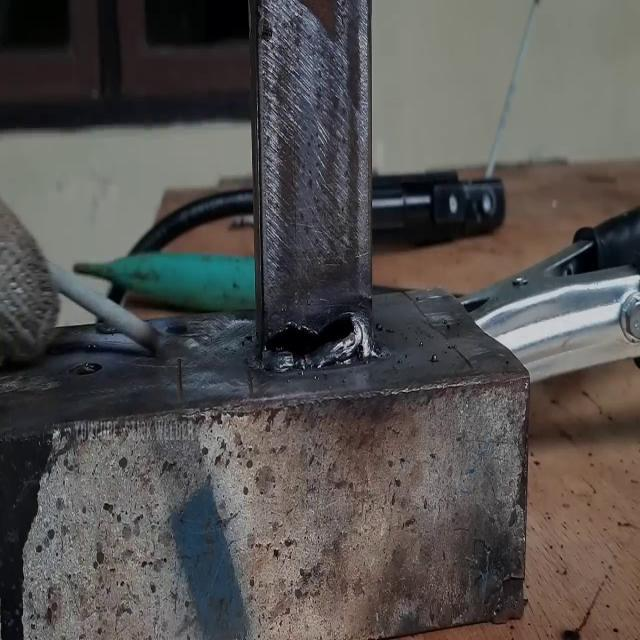Bad Welding: (257, 314, 379, 380)
